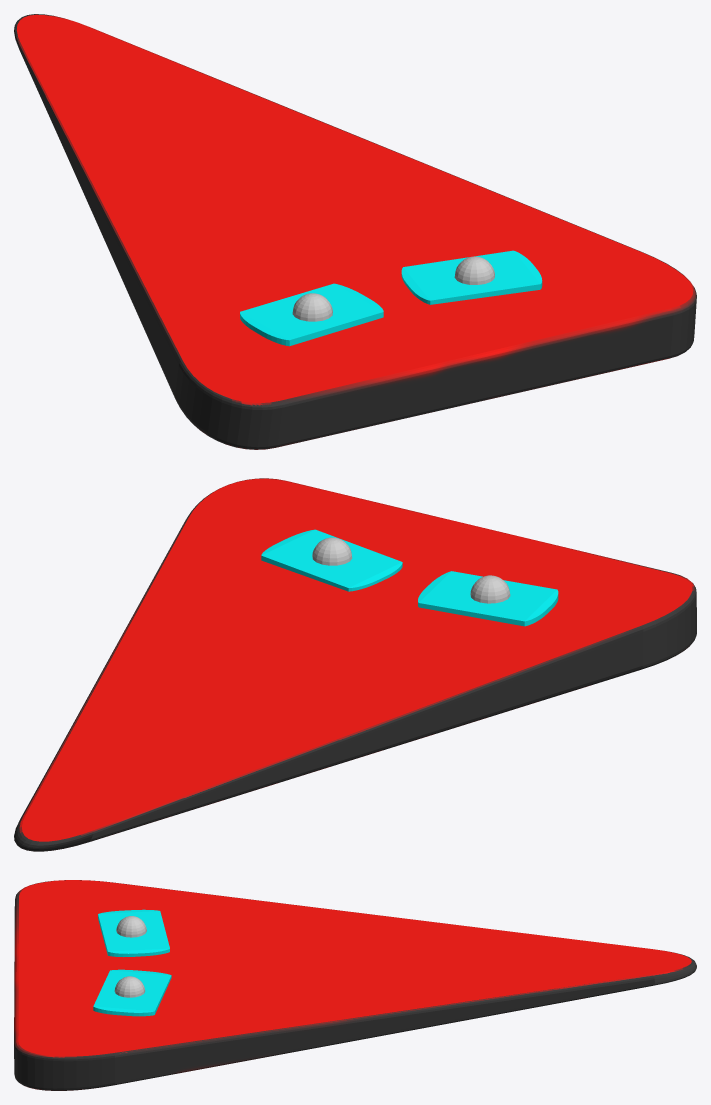
File: plectrum1.fbx
3 views of the same model, one above another, from view 1: azimuth 30°, elevation 25°; view 2: azimuth 150°, elevation 25°; view 3: azimuth 270°, elevation 25° (orthographic). The views are drawn at different scales.
Parts seen in each view (by area): view 1: Sphere.002; view 2: Sphere.002; view 3: Sphere.002.
Boxes of the visible parts, x1,y1,x2,y2 form: Sphere.002: (14, 14, 696, 449); Sphere.002: (14, 478, 696, 851); Sphere.002: (14, 880, 696, 1090).
Bounding box in the file's own units: 100 × 15.19 × 164.
